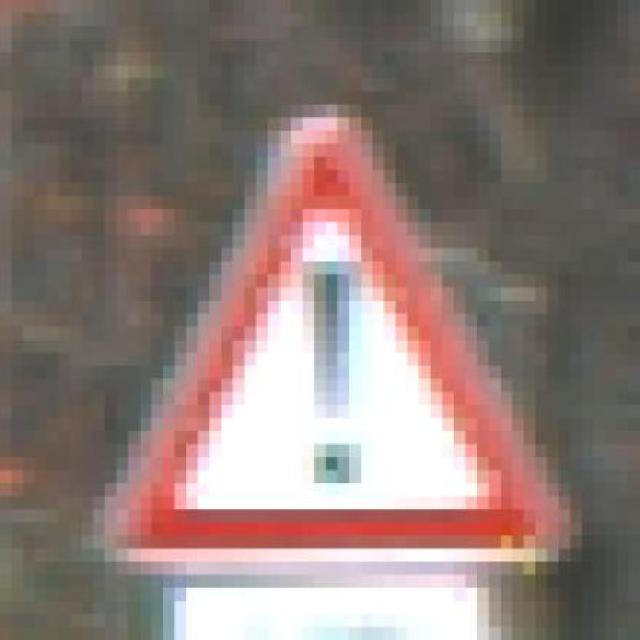Attention Please-: (58, 105, 594, 588)
